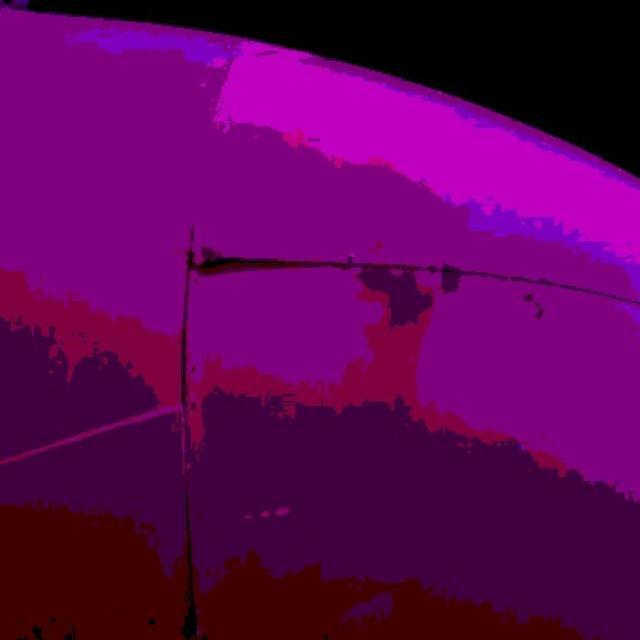crack: (192, 252, 348, 271)
